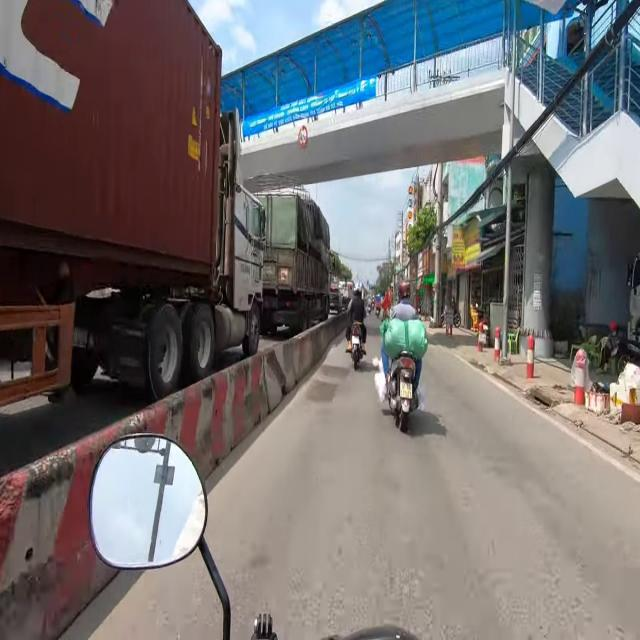bien_trang: (398, 380, 414, 400)
